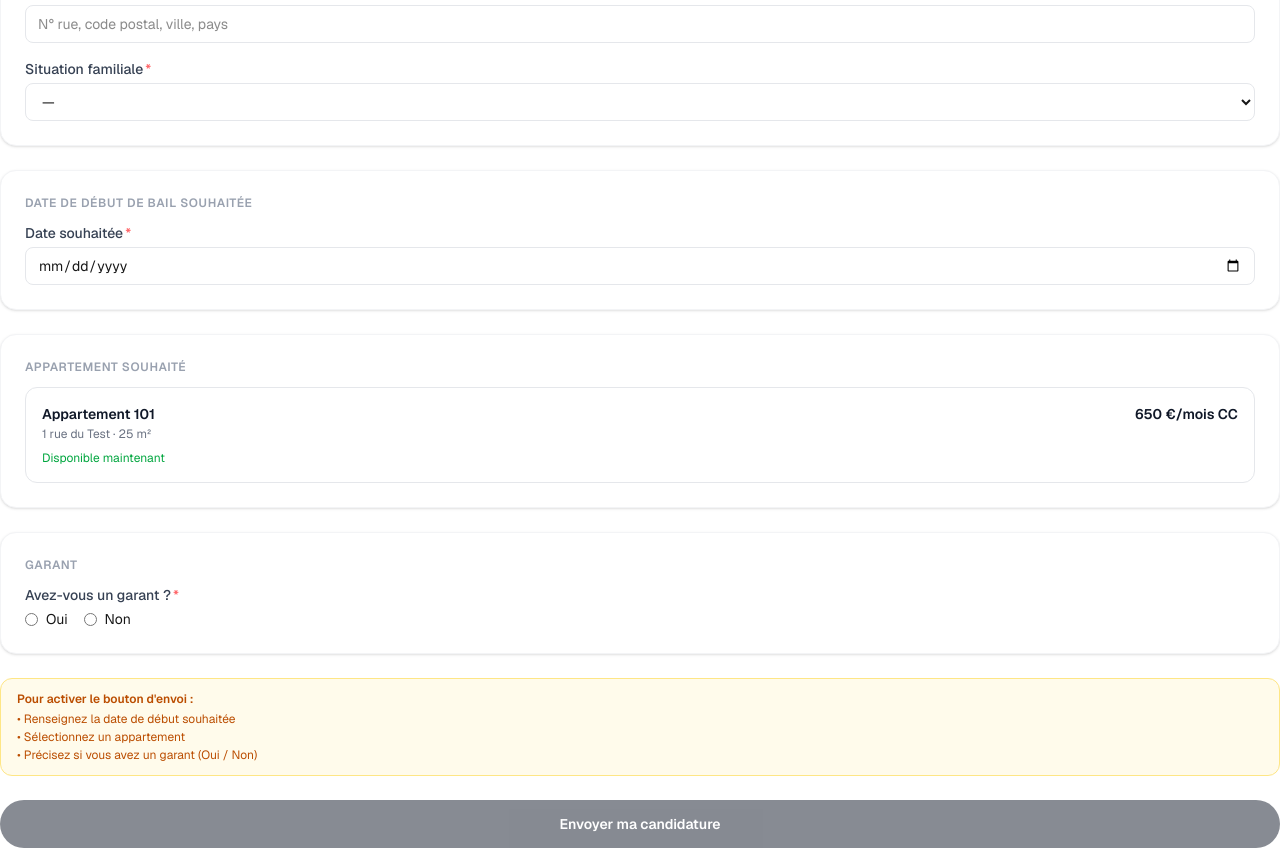
Scenario: CandidateForm — pièces jointes réellement obligatoires (pas seulement l'astérisque visuel) › reproduit le bug réel : sans garant, le bouton reste désactivé tant qu'aucune pièce d'identité n'est jointe
(page scrolled)
Step 1. Click the button "Appartement 101" → (88, 414), box [25, 387, 1255, 483]
(page scrolled)
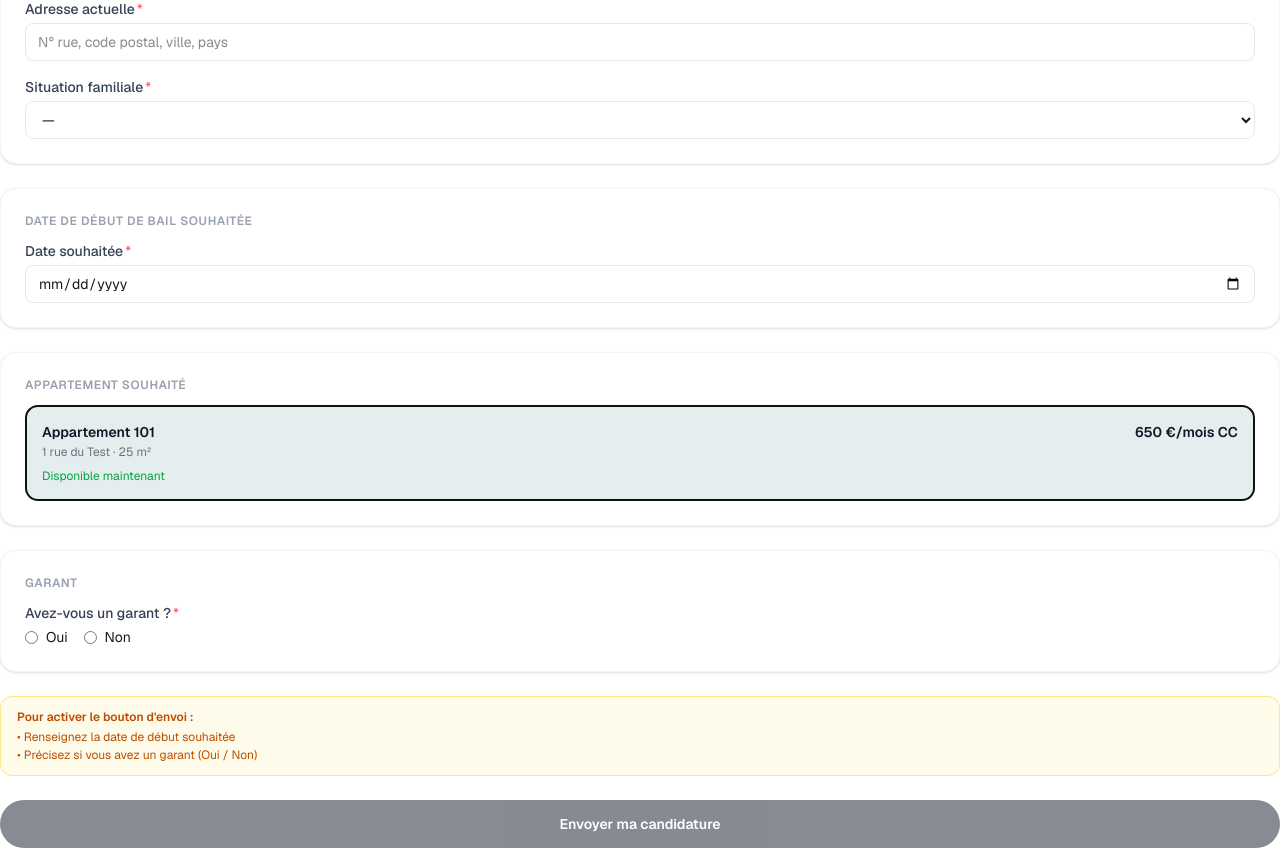
Step 2. Type "2026-09-15" into the date field named "desired_signing_date" below "Date souhaitée" → (640, 284), box [25, 265, 1255, 303]
(page scrolled)
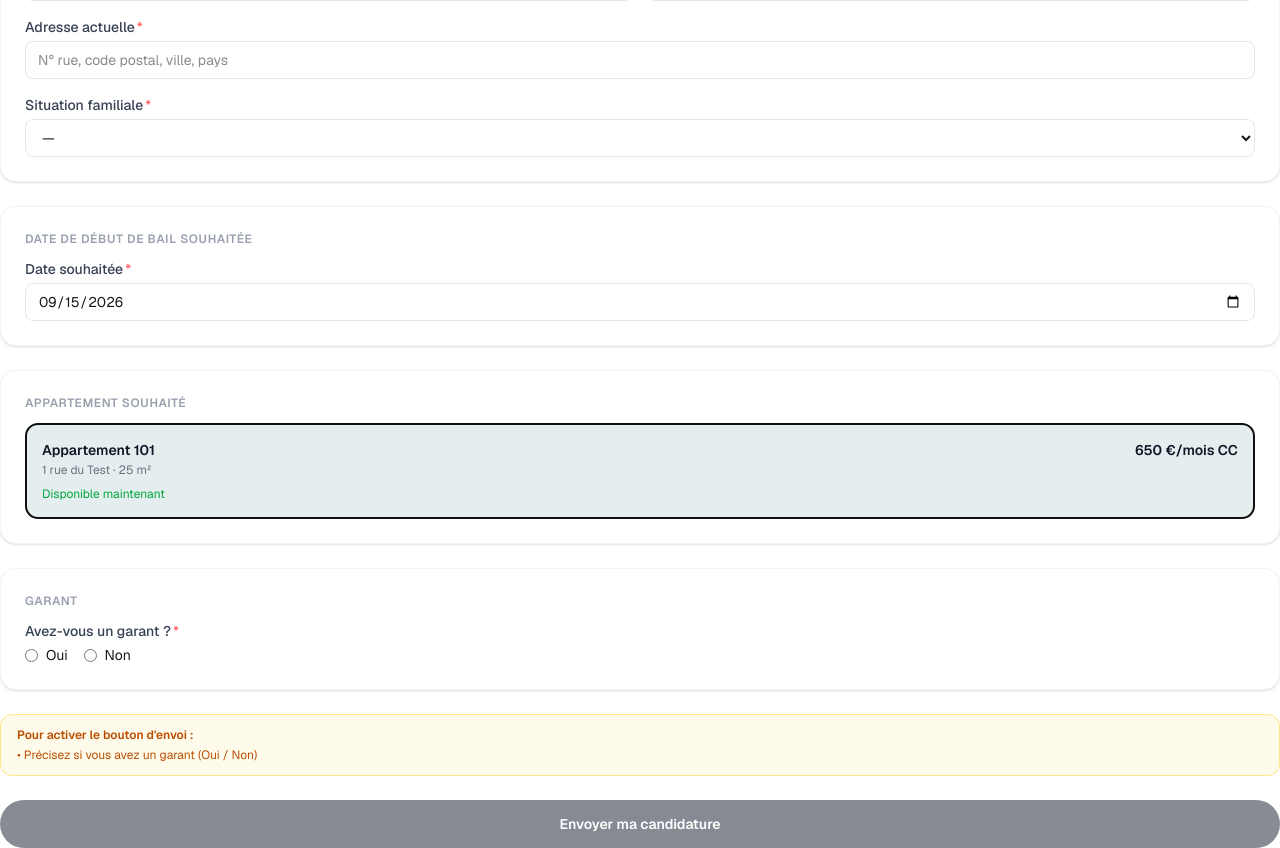
Step 3. Click the radio button labelled "Non" → (90, 655), box [84, 648, 97, 662]
(page scrolled)
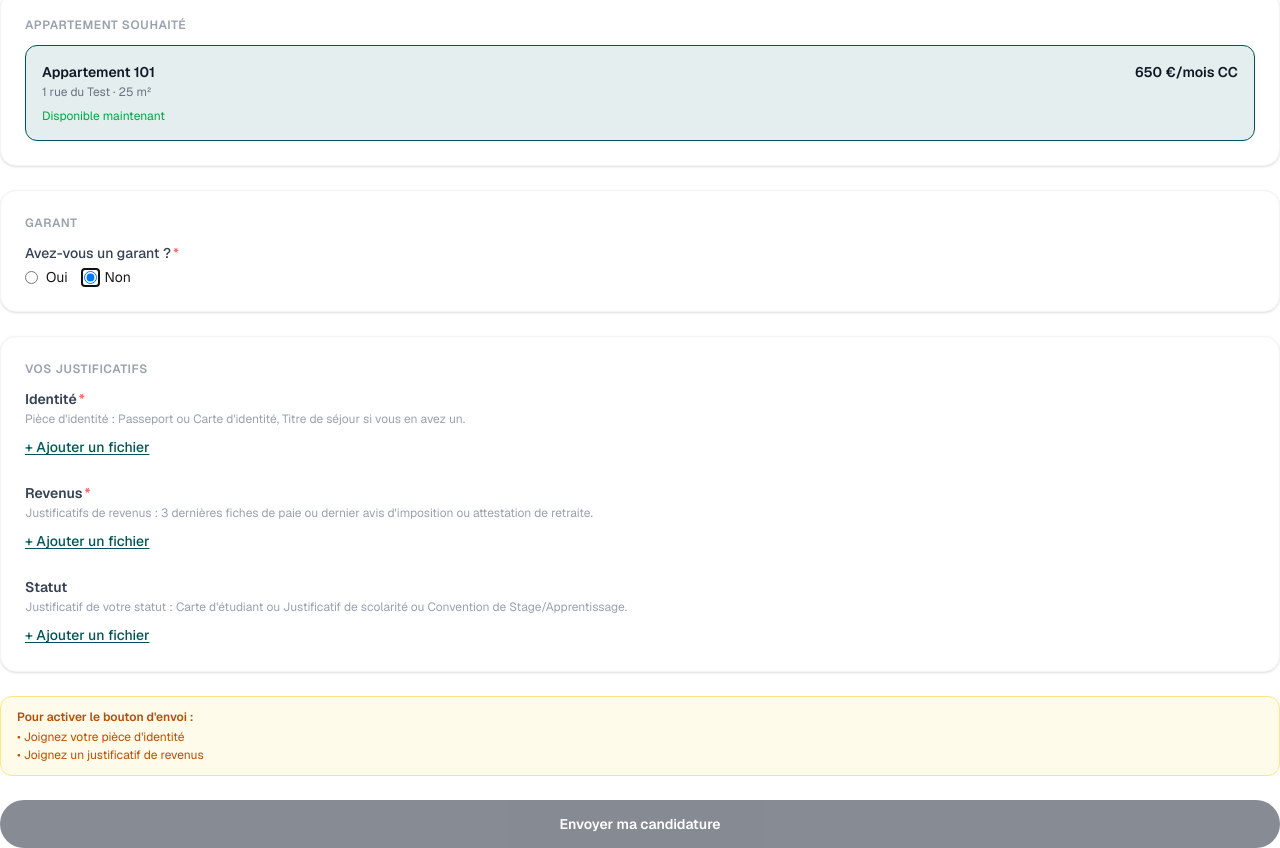
Check: the button "Envoyer ma candidature" is disabled, box [0, 800, 1279, 847]
Check: the text "• Joignez votre pièce d'identité" is shown, box [17, 729, 184, 745]
